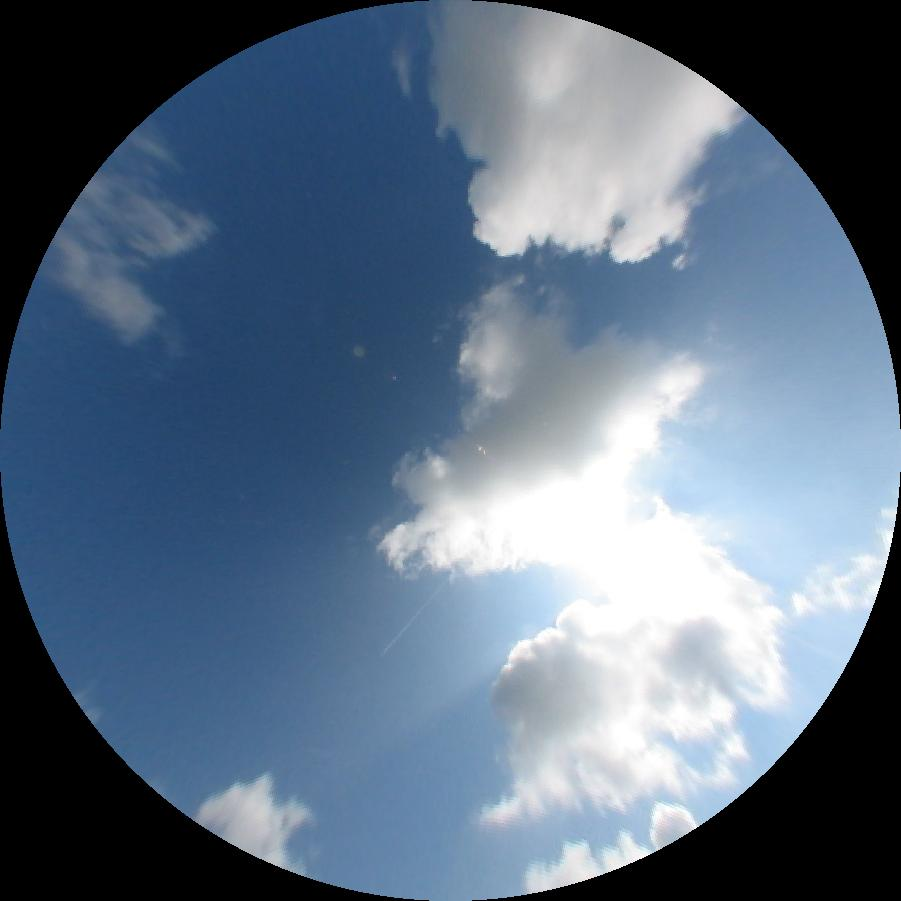contrail maybe: (304, 747, 328, 755)
contrail young: (380, 577, 448, 658)
sun: (586, 524, 707, 614)
